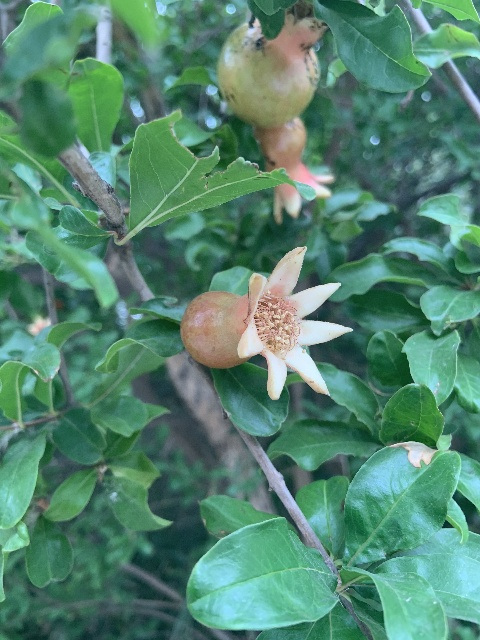early-fruit: (180, 244, 352, 400), (255, 118, 335, 222)
mid-growth: (216, 6, 326, 128)
